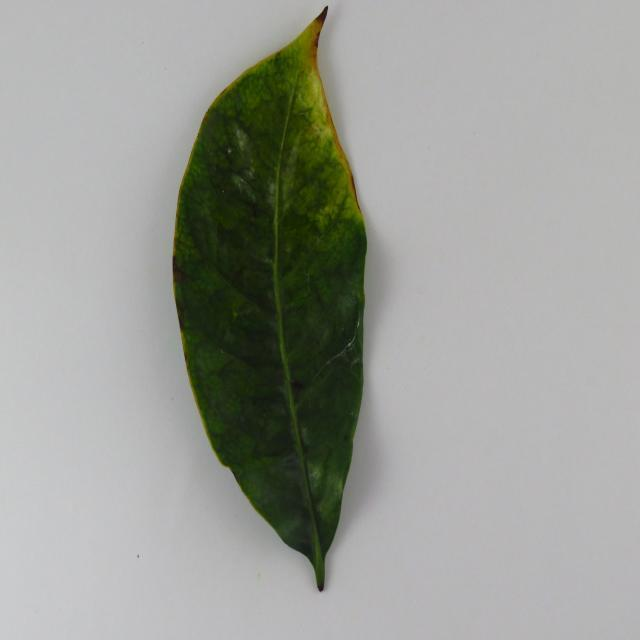DeficienciaNutricional-Manganeso: (172, 8, 366, 592)
